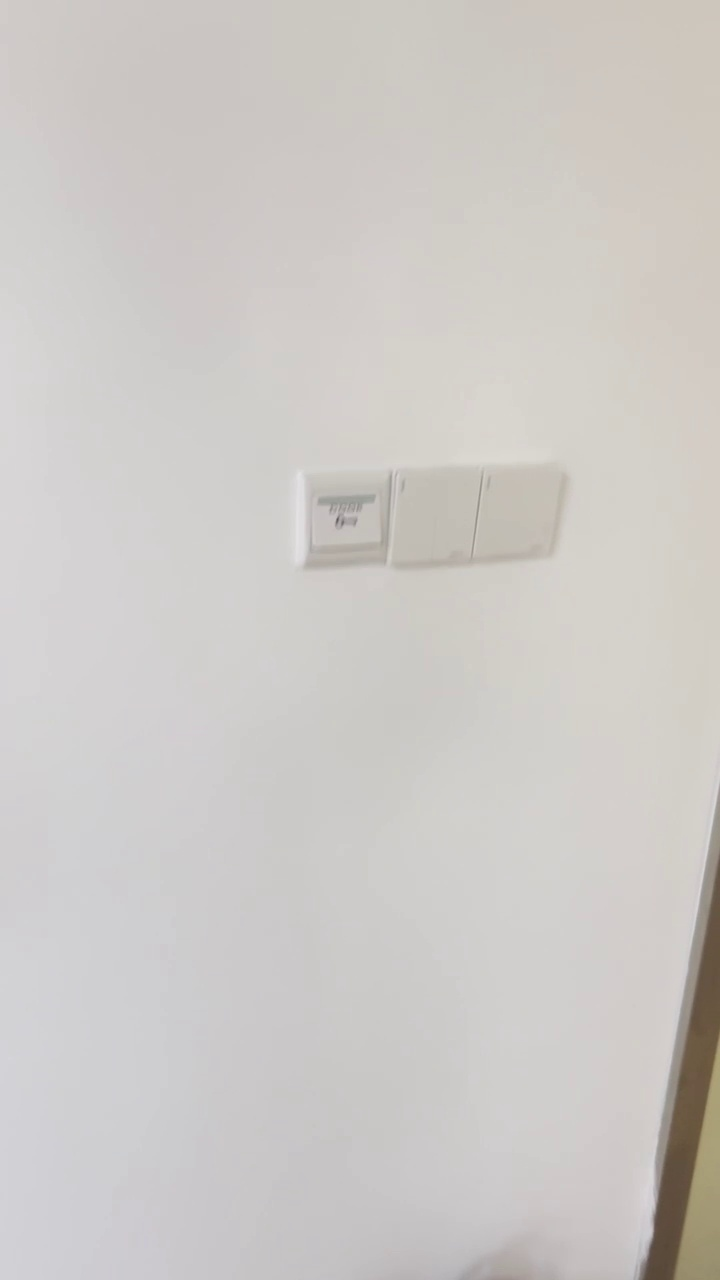button: (385, 464, 477, 564), (477, 460, 560, 563)
